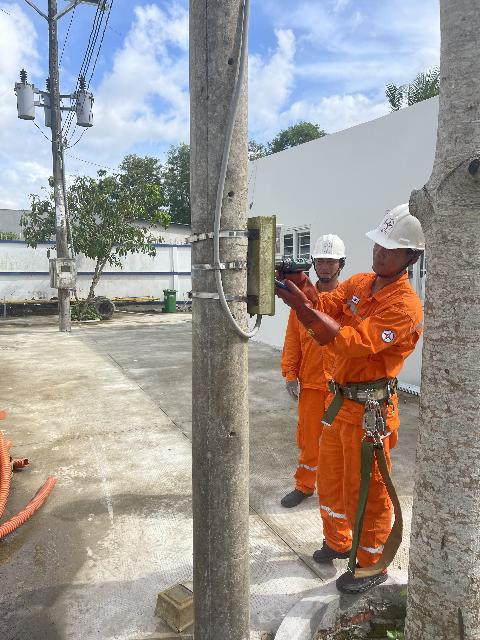gloves: (275, 279, 349, 348), (290, 267, 328, 315), (279, 375, 304, 403)
harness: (321, 374, 408, 408)
helmet: (366, 190, 441, 260), (311, 230, 346, 263)
shoes: (324, 552, 396, 594), (279, 474, 318, 511), (311, 529, 349, 566)
